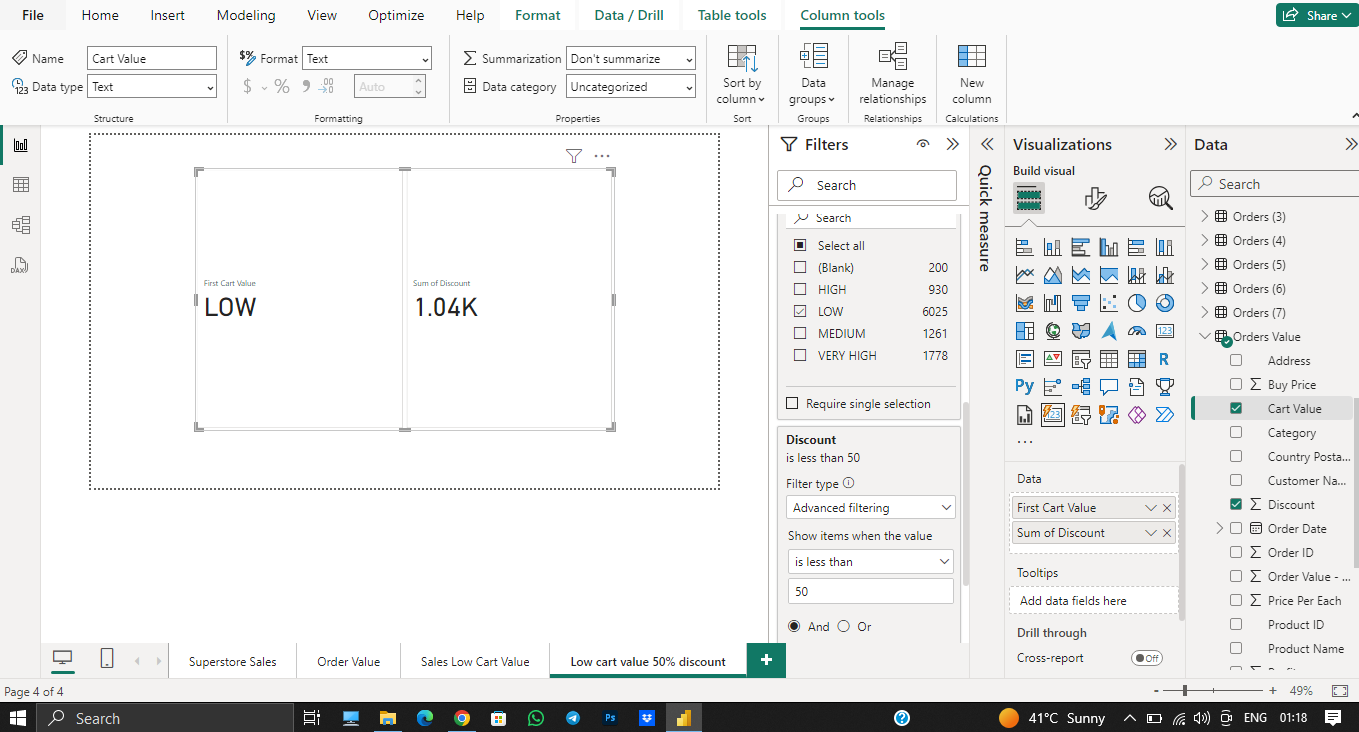

The dashboard page shown, as its layout file describes it:
{"tool":"powerbi","page":{"name":"Low cart value 50% discount","canvas":[1280,720],"ordinal":3},"visuals":[{"type":"cardVisual","fields":{"Data":["Min(Orders Value.Cart Value)","Sum(Orders Value.Discount)"]},"box":[212.2,67.3,857.1,536.7],"z":0}]}

Visuals, with their boxes on the page's 1280x720 design canvas (x1, y1, x2, y2). These are canvas units, not pixel positions in the 1359x732 screenshot, which may show the page scaled, cropped or inside an application window:
cardVisual - Min(Orders Value.Cart Value) x Sum(Orders Value.Discount): detection(212, 67, 1069, 604)
